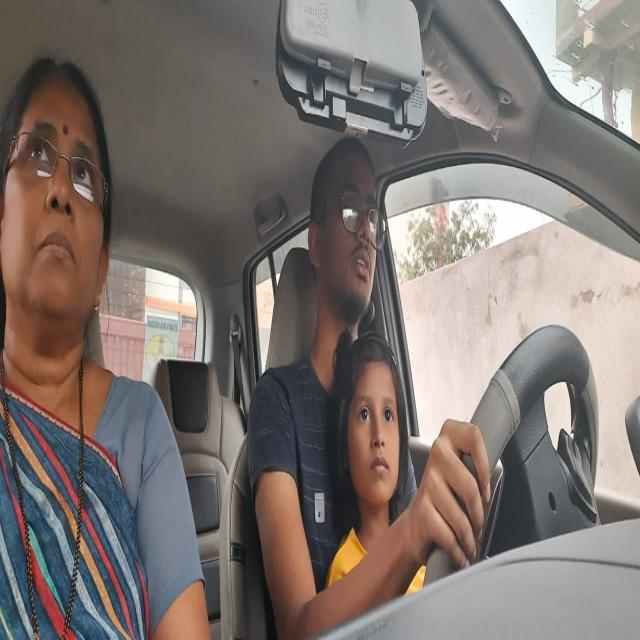child: (338, 358, 408, 513)
person: (0, 50, 115, 330), (304, 140, 386, 311)
